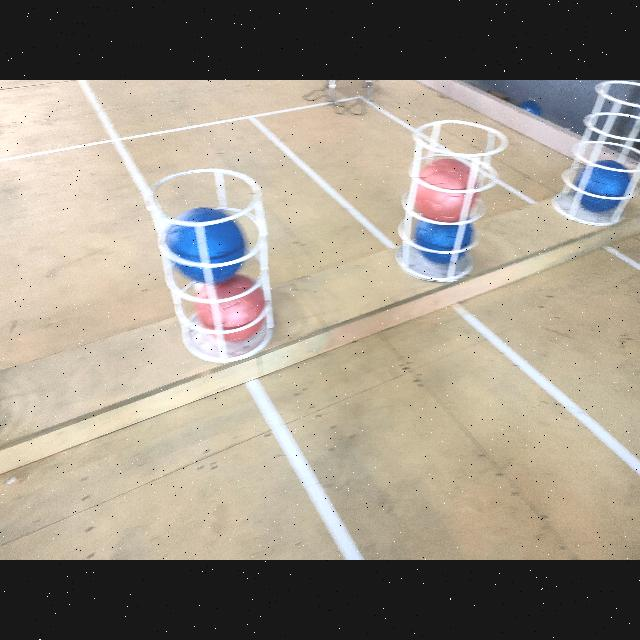B: (162, 208, 246, 282), (574, 160, 630, 213), (416, 220, 472, 266)
R: (192, 284, 268, 342), (414, 159, 482, 219)
